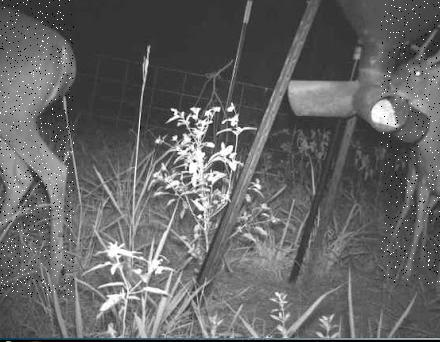Deer: (0, 0, 74, 297), (381, 0, 440, 286)
